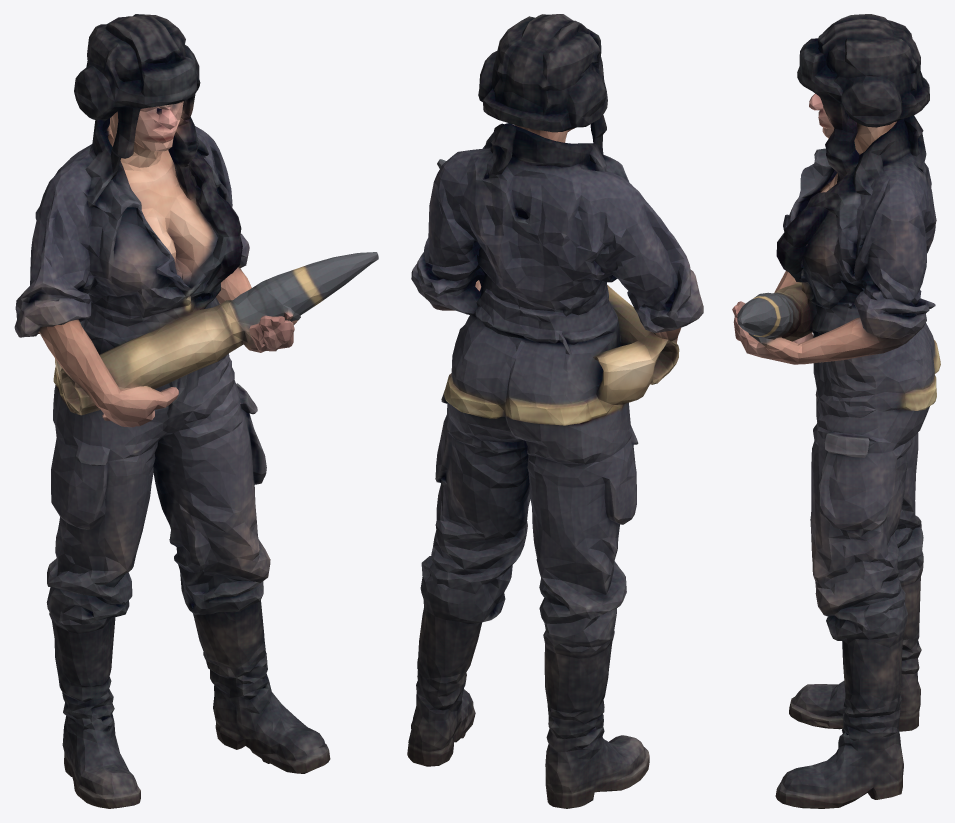
File: crew_su_loader_4.obj
3 views of the same model, side by side, from view 1: azimuth 30°, elevation 25°; view 2: azimuth 150°, elevation 25°; view 3: azimuth 270°, elevation 25° (orthographic). The views are drawn at different scales.
Parts seen in each view (by area): view 1: crew_su_loader_4; view 2: crew_su_loader_4; view 3: crew_su_loader_4.
Part boxes in pixels (bbox=[...]): crew_su_loader_4: bbox=[14, 14, 378, 808]; crew_su_loader_4: bbox=[407, 14, 703, 808]; crew_su_loader_4: bbox=[732, 14, 940, 808].
Bounding box in the file's own units: 0.7248 × 1.68 × 0.4403.
1 material, 1 textured.
